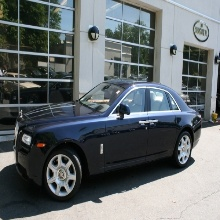no damage: (13, 79, 202, 200)
